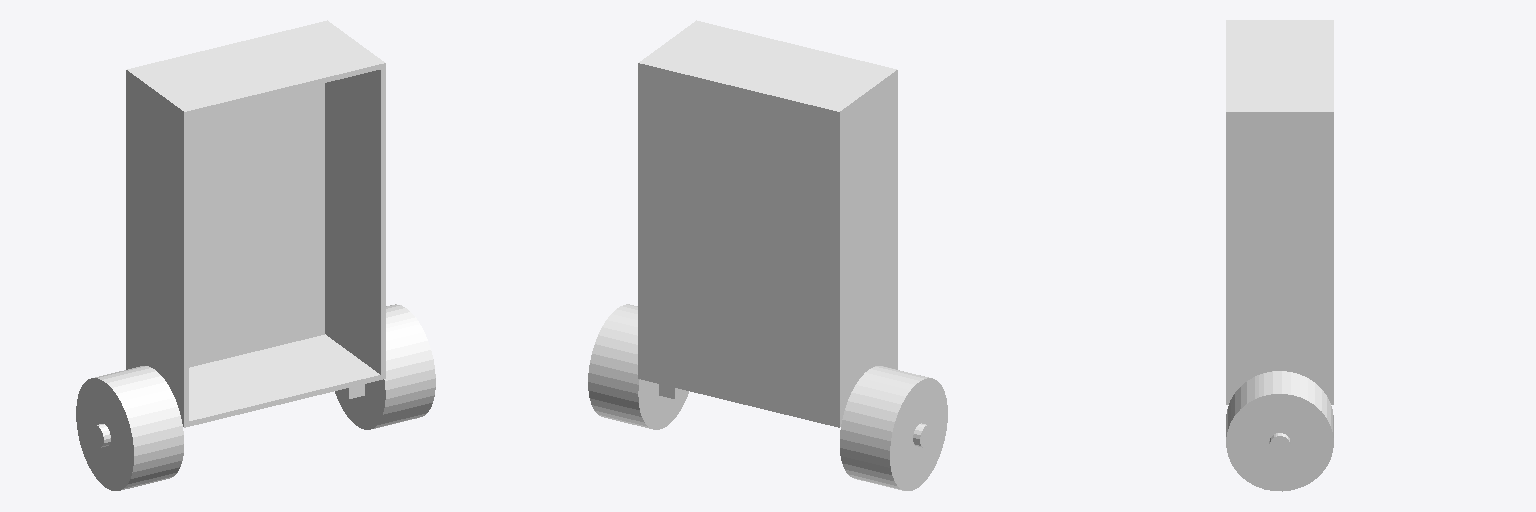
The robot description file, URDF, robot "inverted_pendulum":
<?xml version="1.0" encoding="utf-8"?>
<!-- This URDF was automatically created by SolidWorks to URDF Exporter! Originally created by [author] ([email redacted]) 
     Commit Version: 1.6.0-4-g7f85cfe  Build Version: 1.6.7995.38578
     For more information, please see http://wiki.ros.org/sw_urdf_exporter -->
<robot
  name="inverted_pendulum">
  <link
    name="base_link">
    <inertial>
      <origin
        xyz="-3.26717855560707E-17 -0.00197210793250581 -0.00834319519876685"
        rpy="-1.570796 0 0" />
      <mass
        value="0.0999914801973355" />
      <inertia
        ixx="0.000306925090515305"
        ixy="1.50075261496563E-20"
        ixz="-1.22375042448589E-20"
        iyy="0.000166578860122352"
        iyz="1.64522796127438E-06"
        izz="0.000421608227251848" />
    </inertial>
    <visual>
      <origin
        xyz="0 0 0"
        rpy="0 0 0" />
      <geometry>
        <mesh
          filename="package://inverted_pendulum/meshes/base_link.STL" />
      </geometry>
      <material
        name="">
        <color
          rgba="1 1 1 1" />
      </material>
    </visual>
    <collision>
      <origin
        xyz="0 0 0"
        rpy="0 0 0" />
      <geometry>
        <mesh
          filename="package://inverted_pendulum/meshes/base_link.STL" />
      </geometry>
    </collision>
  </link>
  <link
    name="left_wheel">
    <inertial>
      <origin
        xyz="-1.3878E-17 2.0817E-17 -0.016"
        rpy="0 0 0" />
      <mass
        value="0.05063" />
      <inertia
        ixx="1.0549E-05"
        ixy="-6.3527E-22"
        ixz="-6.1529E-22"
        iyy="1.0549E-05"
        iyz="-2.024E-22"
        izz="1.5654E-05" />
    </inertial>
    <visual>
      <origin
        xyz="0 0 0"
        rpy="0 0 0" />
      <geometry>
        <mesh
          filename="package://inverted_pendulum/meshes/left_wheel.STL" />
      </geometry>
      <material
        name="">
        <color
          rgba="1 1 1 1" />
      </material>
    </visual>
    <collision>
      <origin
        xyz="0 0 0"
        rpy="0 0 0" />
      <geometry>
        <mesh
          filename="package://inverted_pendulum/meshes/left_wheel.STL" />
      </geometry>
    </collision>
  </link>
  <joint
    name="left_wheel_joint"
    type="continuous">
    <origin
      xyz="0.0465 0 -0.0825"
      rpy="1.5708 -1.179 -1.5708" />
    <parent
      link="base_link" />
    <child
      link="left_wheel" />
    <axis
      xyz="0 0 1" />
  </joint>
  <!-- <joint name="left_wheel_joint" type="continuous">
    <origin xyz="0.0465 0 -0.0825" rpy="0 0 0"/>
    <parent link="base_link"/>
    <child link="left_wheel"/>
    <axis xyz="0 1 0"/>
  </joint> -->
  <link
    name="right_wheel">
    <inertial>
      <origin
        xyz="-2.7756E-17 2.0817E-17 -0.016"
        rpy="0 0 0" />
      <mass
        value="0.05063" />
      <inertia
        ixx="1.0549E-05"
        ixy="-1.4823E-21"
        ixz="8.9707E-22"
        iyy="1.0549E-05"
        iyz="-4.2423E-22"
        izz="1.5654E-05" />
    </inertial>
    <visual>
      <origin
        xyz="0 0 0"
        rpy="0 0 0" />
      <geometry>
        <mesh
          filename="package://inverted_pendulum/meshes/right_wheel.STL" />
      </geometry>
      <material
        name="">
        <color
          rgba="1 1 1 1" />
      </material>
    </visual>
    <collision>
      <origin
        xyz="0 0 0"
        rpy="0 0 0" />
      <geometry>
        <mesh
          filename="package://inverted_pendulum/meshes/right_wheel.STL" />
      </geometry>
    </collision>
  </link>
  <joint
    name="right_wheel_joint"
    type="continuous">
    <origin
      xyz="-0.0465 0 -0.0825"
      rpy="1.5708 1.179 1.5708" />
    <parent
      link="base_link" />
    <child
      link="right_wheel" />
    <axis
      xyz="0 0 1" />
  </joint>
  <!-- <joint name="right_wheel_joint" type="continuous">
    <origin xyz="-0.0465 0 -0.0825" rpy="0 0 0"/>
    <parent link="base_link"/>
    <child link="right_wheel"/> 
    <axis xyz="0 1 0"/>
  </joint> -->
  <link
    name="imu_link">
    <inertial>
      <origin xyz="0 0 0" rpy="0 0 0"/>
      <mass value="0.01"/>
      <inertia 
        ixx="0.0001" ixy="0" ixz="0"
        iyy="0.0001" iyz="0" izz="0.0001"/>
    </inertial>
    <visual>
      <origin
        xyz="0 0 0"
        rpy="0 0 0" />
      <geometry>
        <mesh
          filename="package://inverted_pendulum/meshes/imu_link.STL" />
      </geometry>
      <material
        name="">
        <color
          rgba="1 1 1 1" />
      </material>
    </visual>
    <collision>
      <origin
        xyz="0 0 0"
        rpy="0 0 0" />
      <geometry>
        <mesh
          filename="package://inverted_pendulum/meshes/imu_link.STL" />
      </geometry>
    </collision>
  </link>
  <joint
    name="imu_joint"
    type="fixed">
    <origin
      xyz="0 0 -0.076"
      rpy="1.5708 0 0" />
    <parent
      link="base_link" />
    <child
      link="imu_link" />
    <axis
      xyz="0 0 0" />
  </joint>
</robot>

--- What the picture shows (computed from the rendered views, not written in the file) ---
The picture shows the robot from 3 angles, left to right: view 1: azimuth 30°, elevation 25°; view 2: azimuth 150°, elevation 25°; view 3: azimuth 270°, elevation 25°; orthographic projection.
Robot: inverted_pendulum — 4 links, 3 joints (2 continuous, 1 fixed); root link base_link; default pose: every joint at zero.
Visible links, largest first — view 1: base_link, right_wheel, left_wheel; view 2: base_link, right_wheel, left_wheel; view 3: base_link, left_wheel.
Link boxes in pixels (x1,y1,x2,y2): base_link: (126,20,385,427); right_wheel: (76,366,183,490); left_wheel: (335,304,435,429); base_link: (638,20,897,427); right_wheel: (840,366,947,490); left_wheel: (588,304,688,429); base_link: (1226,20,1333,404); left_wheel: (1226,371,1333,491).
Size in the robot's own frame: 0.157 by 0.05 by 0.1825 metres.
Meshes: 4 distinct files referenced, 4 mesh visuals loaded (4 binary STL).